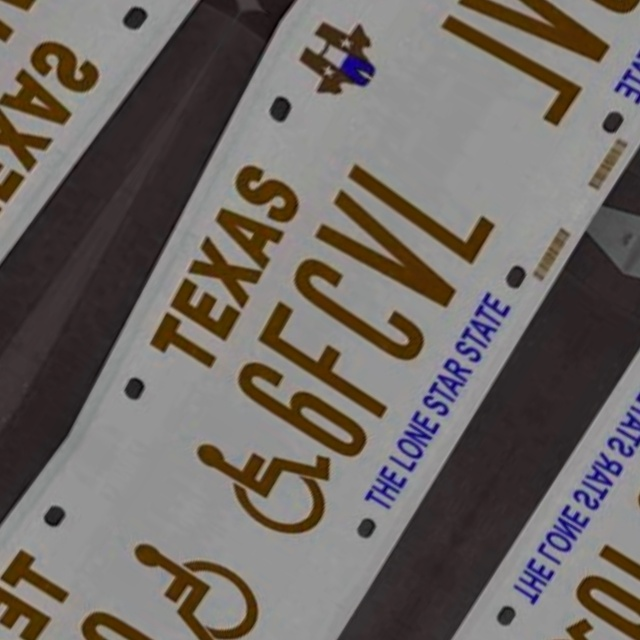ISA: (175, 390, 356, 554), (96, 516, 277, 640), (510, 600, 640, 640)
